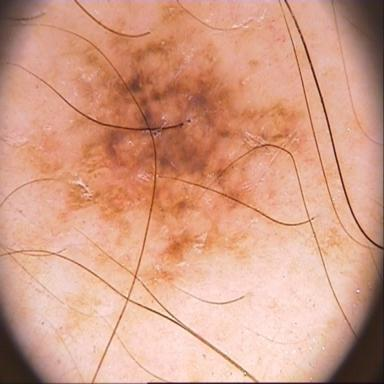nevus: (18, 2, 315, 300)
